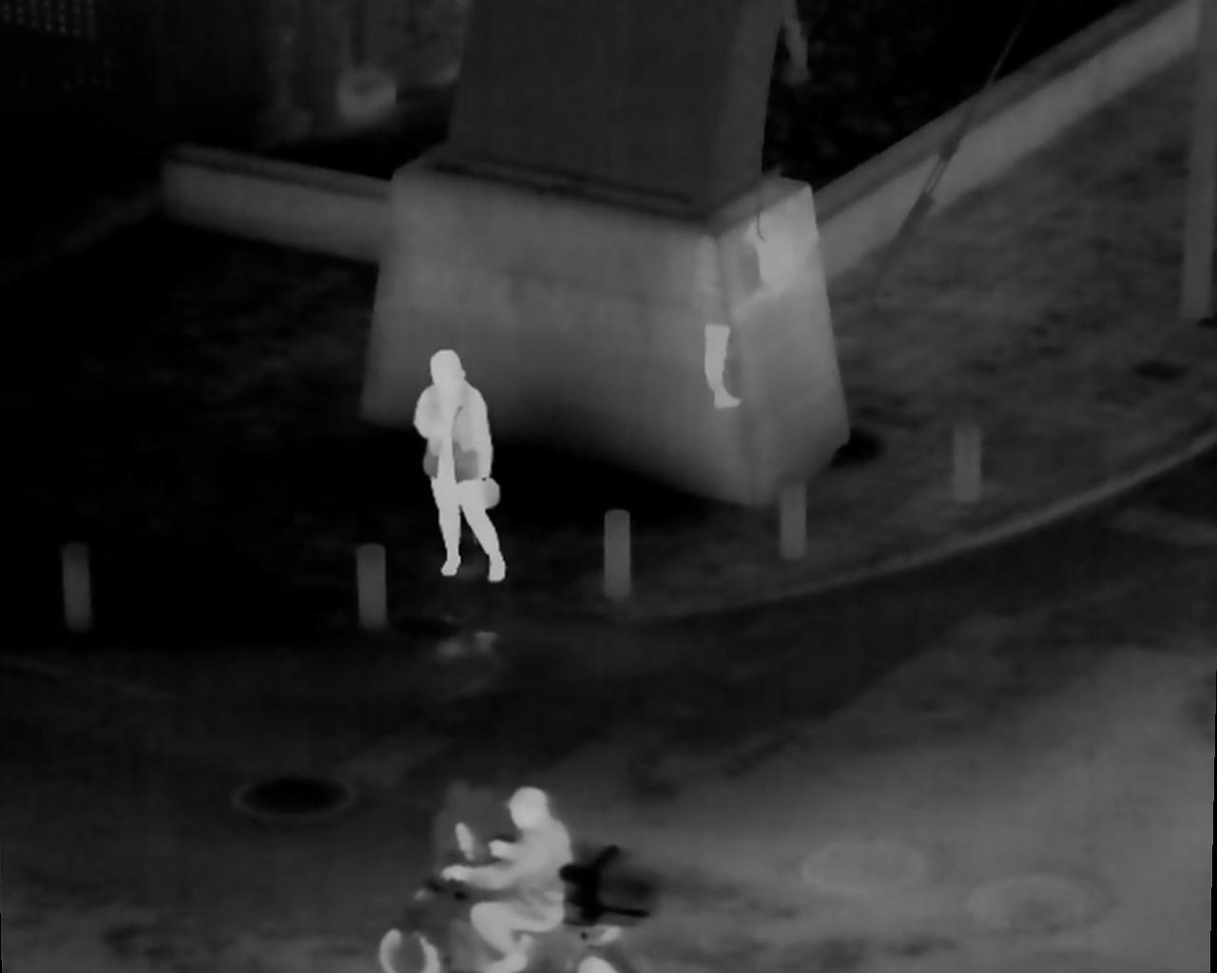person: (437, 787, 588, 969), (410, 349, 514, 586)
